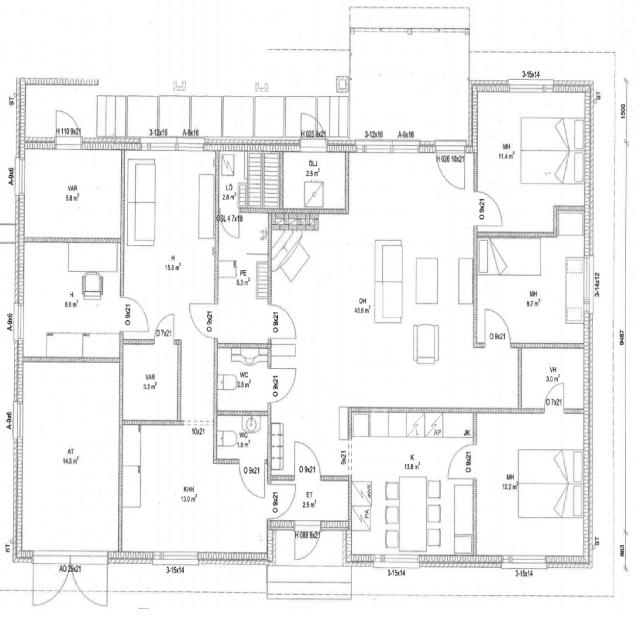door: (33, 554, 70, 616), (70, 554, 107, 616), (436, 140, 464, 190), (56, 106, 81, 152), (301, 107, 326, 152), (295, 520, 320, 564), (267, 484, 297, 520), (188, 304, 218, 338), (120, 297, 149, 332), (267, 305, 296, 339), (267, 369, 296, 403), (473, 192, 502, 226), (295, 442, 320, 481), (239, 460, 264, 499), (448, 446, 476, 480), (485, 310, 510, 348), (544, 382, 564, 413), (154, 313, 173, 344), (220, 208, 238, 238)
